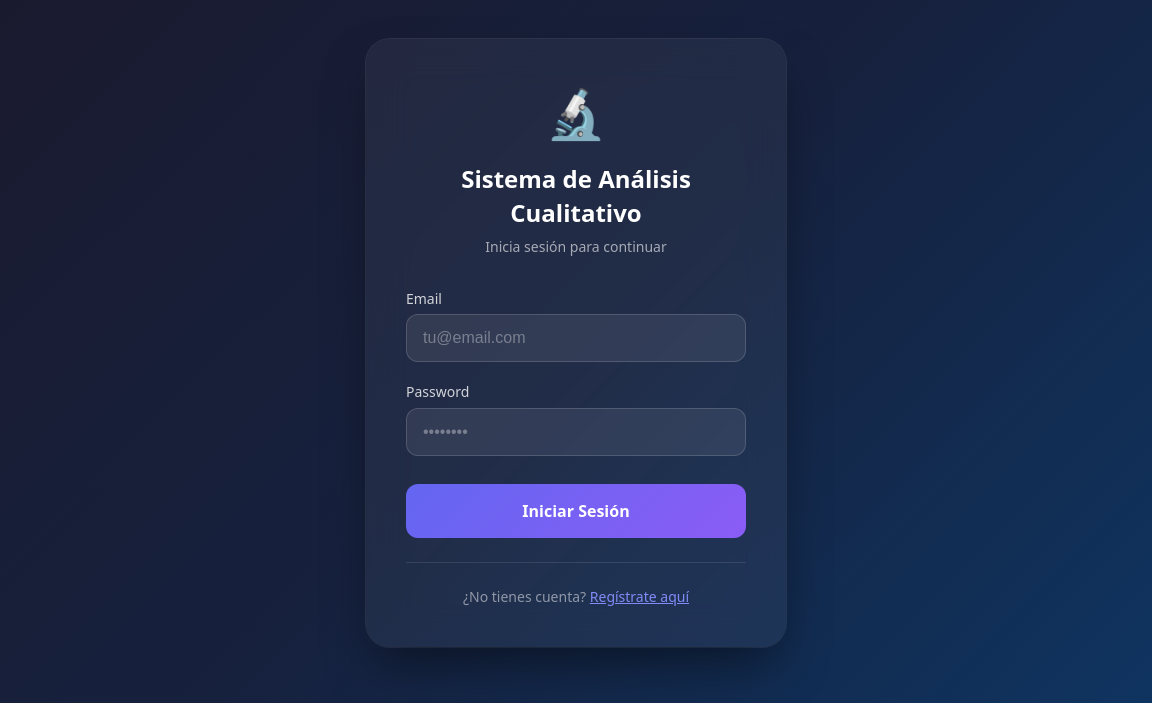
Test case: AuthPage › switches to register form when clicking register link
Note: Click register button
Click the button "Regístrate aquí" at [639, 597], box [590,588,689,607]
(page scrolled)
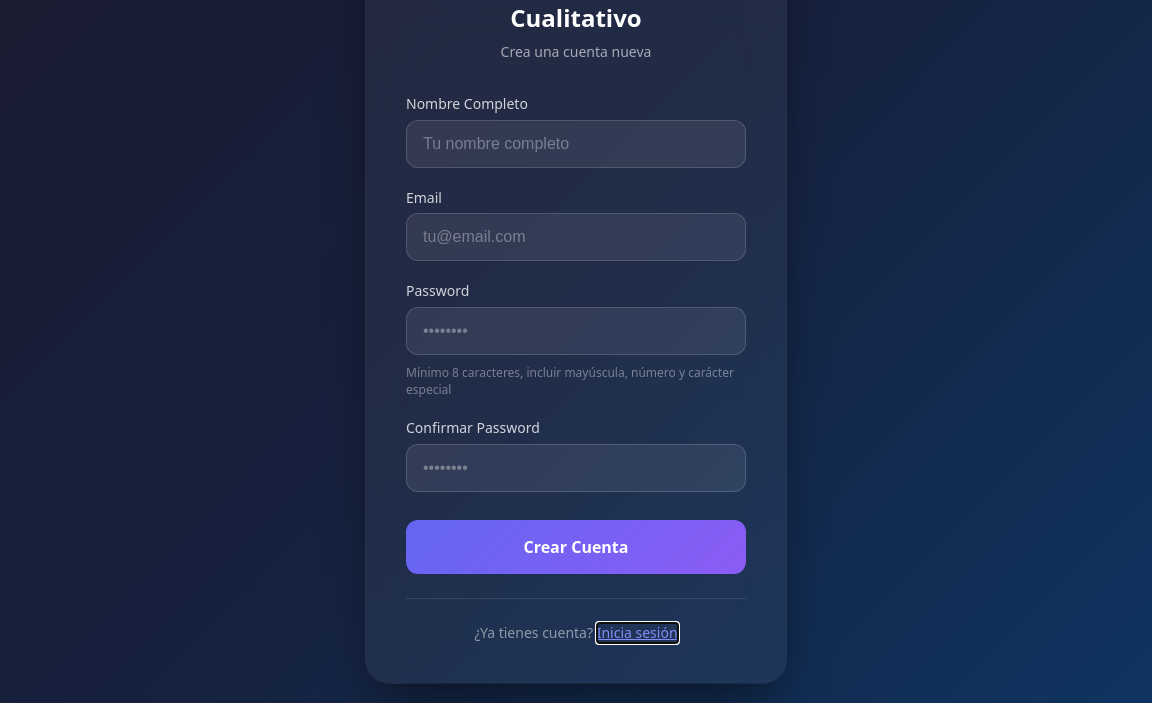
expect the text "Crea una cuenta nueva" is shown: met, box [500,42,651,61]
expect the field labelled "Nombre Completo" is shown: met, box [406,120,746,168]
expect the password field labelled "Confirmar Password" is shown: met, box [406,444,746,492]
